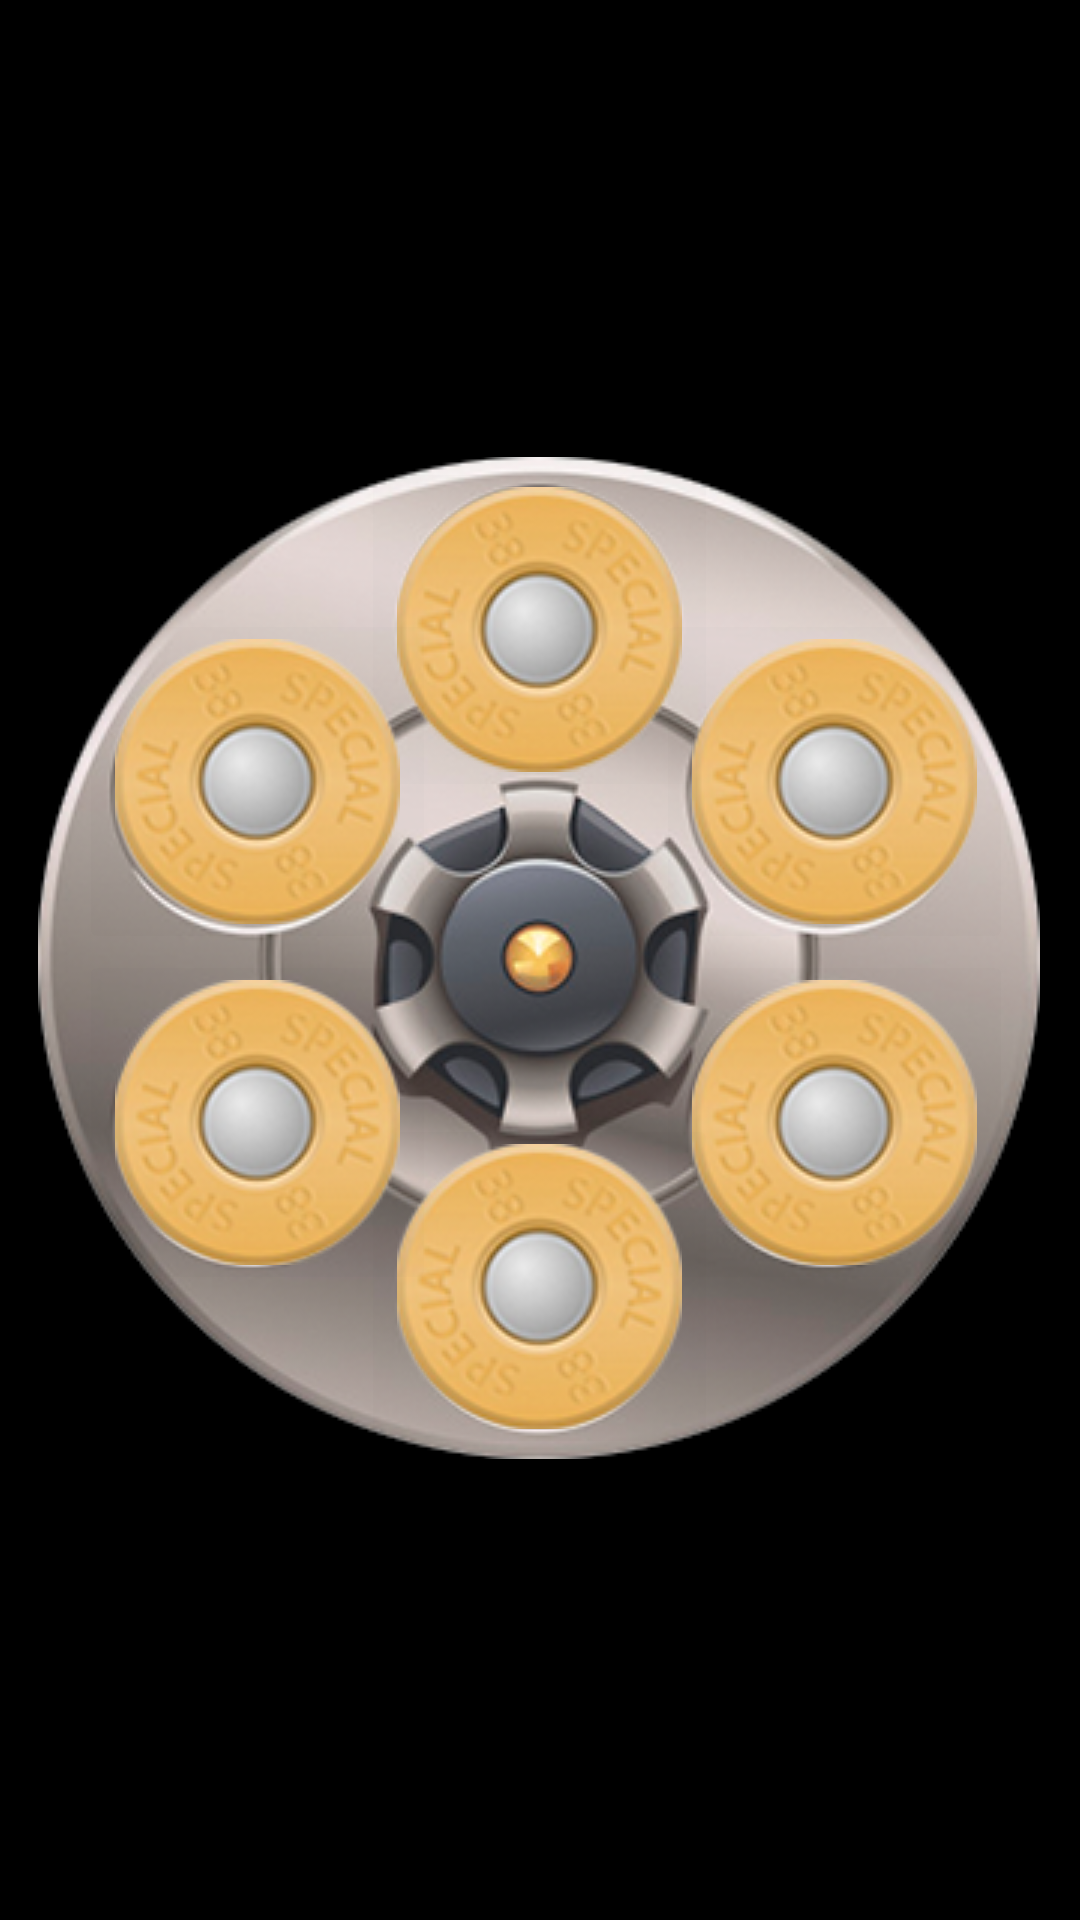

Screen size 1080w x 1920h. Icon name, then its center in pixels as (x=x, y=y):
bala: (x=539, y=629), (x=257, y=781), (x=834, y=781), (x=257, y=1122), (x=834, y=1122), (x=539, y=1286)
